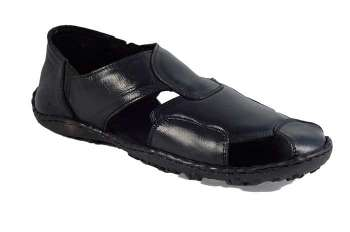Footwear: (30, 23, 334, 195)
